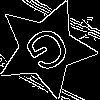G: (21, 23, 79, 83)
